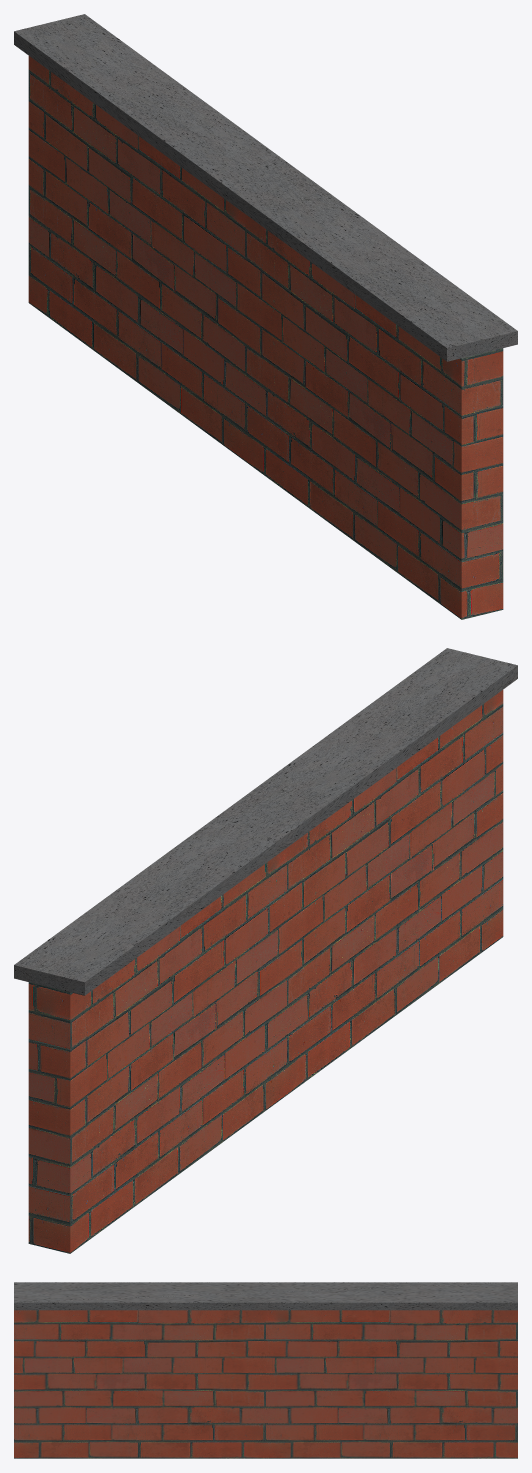
File: WallRedBricks_Large.dae
3 views of the same model, one above another, from view 1: azimuth 30°, elevation 25°; view 2: azimuth 150°, elevation 25°; view 3: azimuth 270°, elevation 25° (orthographic). The views are drawn at different scales.
Visible parts, largest first — view 1: WallRedBricks_Large; view 2: WallRedBricks_Large; view 3: WallRedBricks_Large.
Boxes of the visible parts, left/top/right/bottom form: WallRedBricks_Large: left=14, top=14, right=517, bottom=619; WallRedBricks_Large: left=14, top=648, right=517, bottom=1253; WallRedBricks_Large: left=14, top=1282, right=517, bottom=1458.
Size of the model in its own units: 6.8 by 72 by 25.24.
